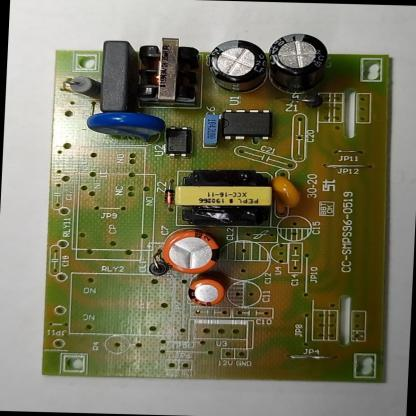Cap1: (153, 225, 226, 276)
Cap2: (184, 271, 233, 310)
Cap3: (201, 36, 276, 98)
Cap4: (259, 28, 336, 102)
MOSFET: (214, 106, 278, 144)
Mov: (80, 108, 172, 146)
Resistor: (62, 71, 107, 102)
Transformer: (169, 166, 278, 229), (131, 34, 204, 107)
